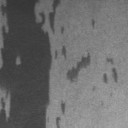red iron: (0, 0, 67, 128), (66, 52, 91, 83), (112, 67, 118, 82), (61, 102, 66, 114), (56, 117, 61, 128), (91, 18, 96, 28), (106, 58, 114, 64), (103, 74, 107, 83), (61, 26, 64, 34)
